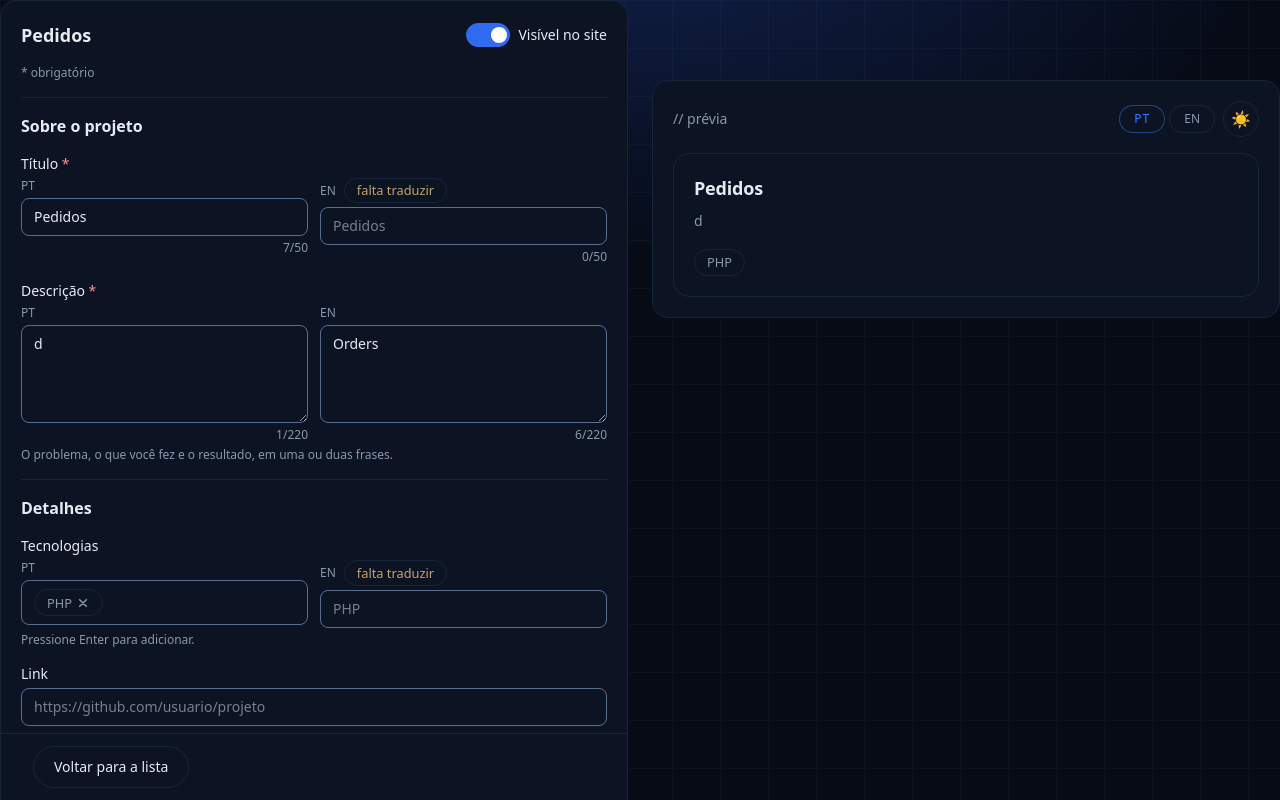
formulário a partir do modelo › 'Visível no site' é uma chave no cabeçalho
Click the switch named "Visível no site" at (488, 35), box [466,23,510,47]
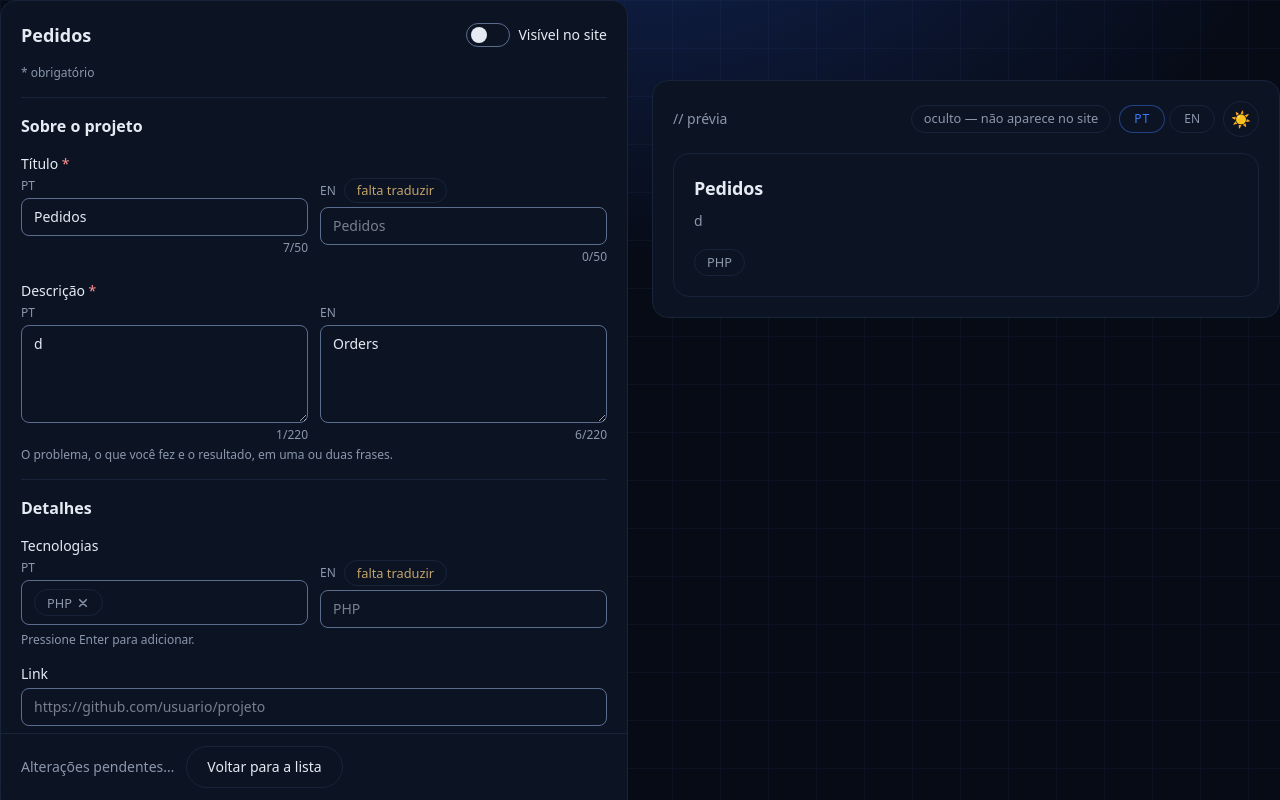
Now the switch named "Visível no site" is not checked, box [466,23,510,47]
